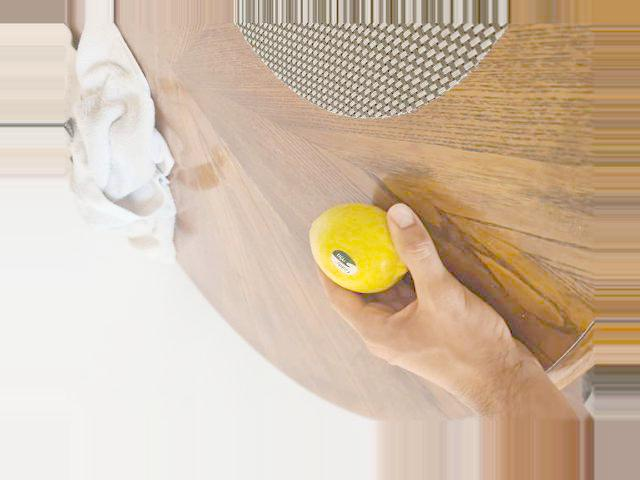lemon: (308, 202, 413, 292)
